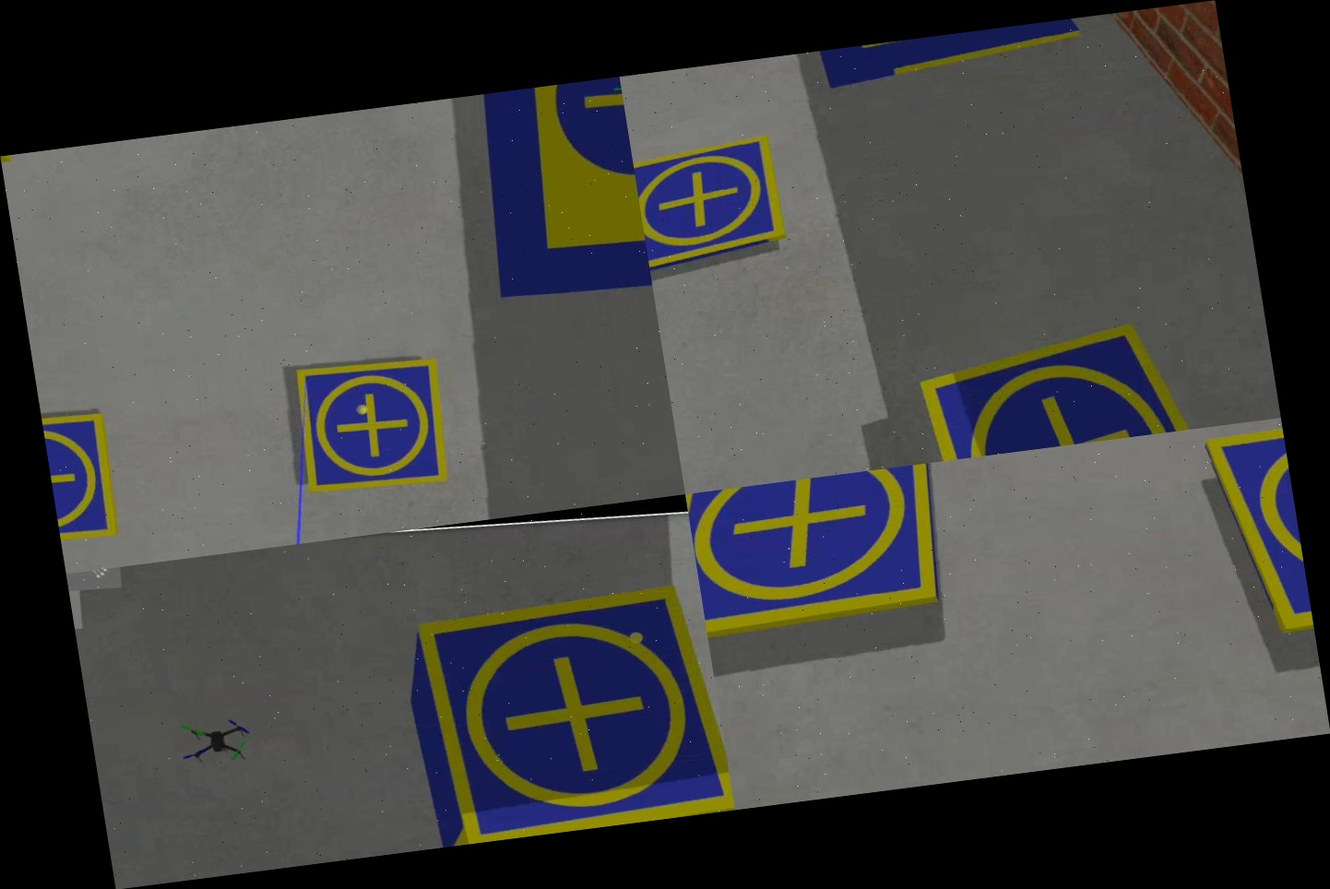large_base: (467, 77, 654, 313), (795, 17, 1097, 110)
small_base: (394, 565, 735, 848), (897, 294, 1239, 464), (685, 462, 963, 656), (1187, 418, 1316, 657), (629, 121, 801, 287), (285, 348, 460, 505), (40, 399, 130, 542)
